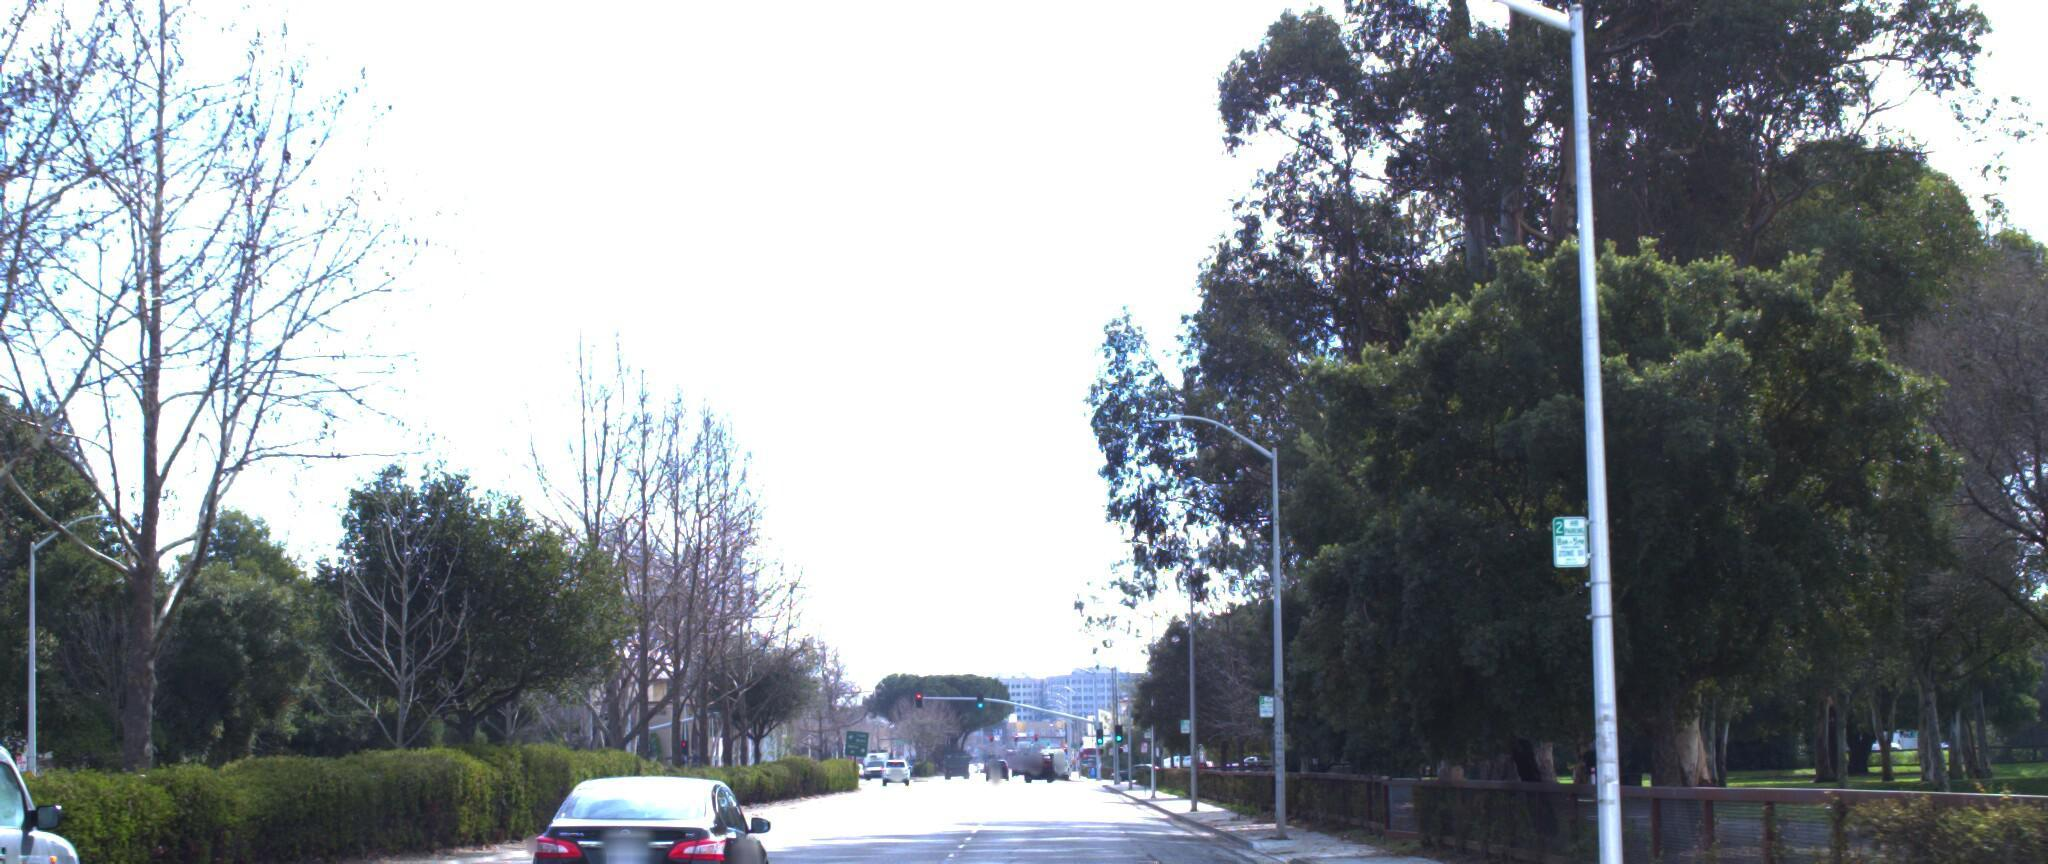car: (507, 756, 776, 864), (0, 720, 114, 864)
